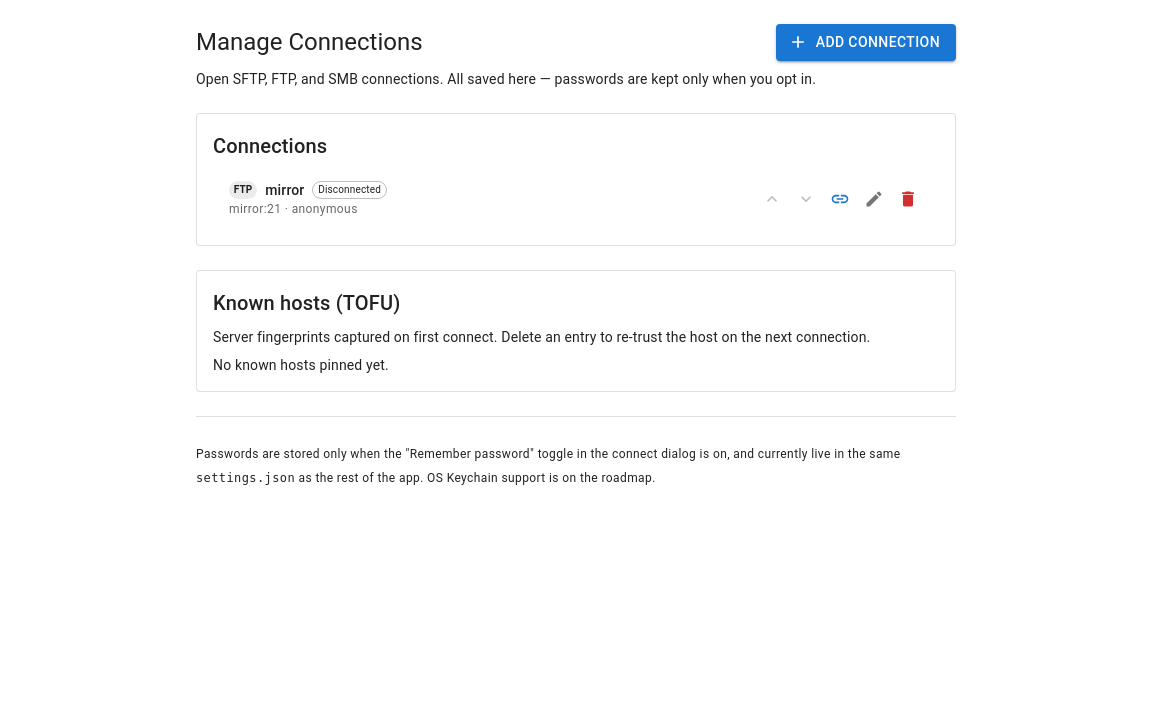
Test: ConnectionsPage (merged list) › Delete button opens a confirmation dialog and removes the entry on confirm
The width and height of the screenshot is (1152, 720).
Click the button named "Delete mirror". click: (908, 200)
box: [893,184,923,214]
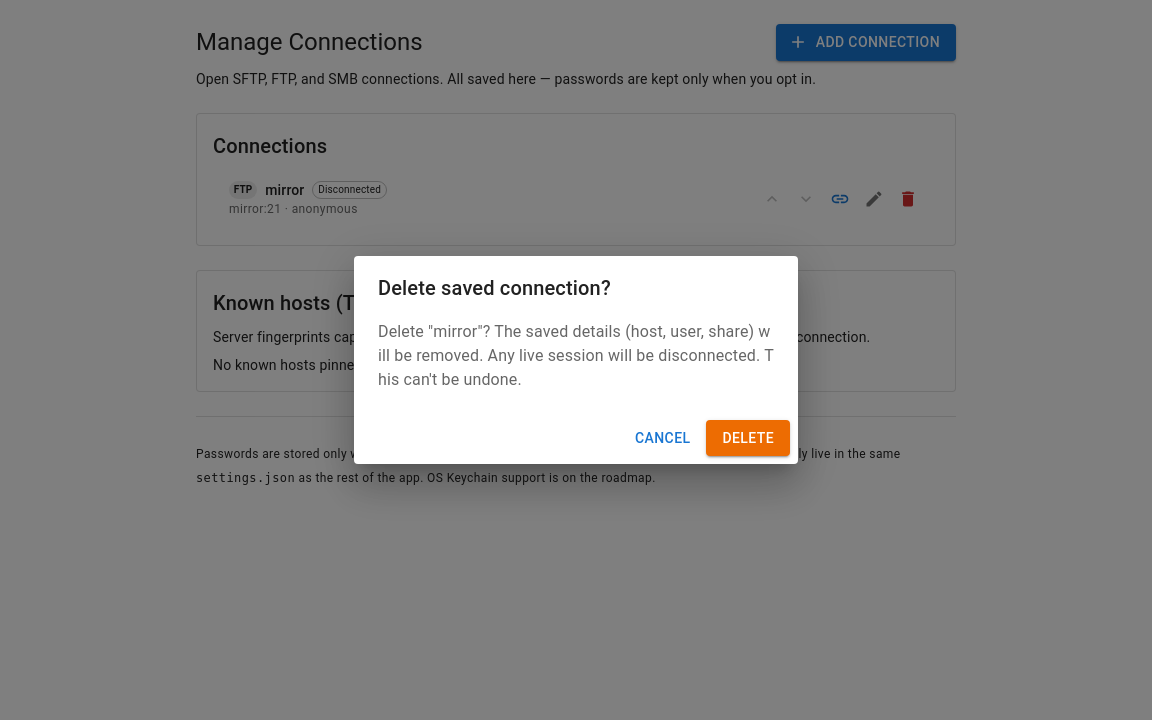
expect the text "Delete \"mirror\"?" is shown: met, box [378,322,774,389]
Click the button "Delete". click: (748, 438)
box: [706,420,790,456]
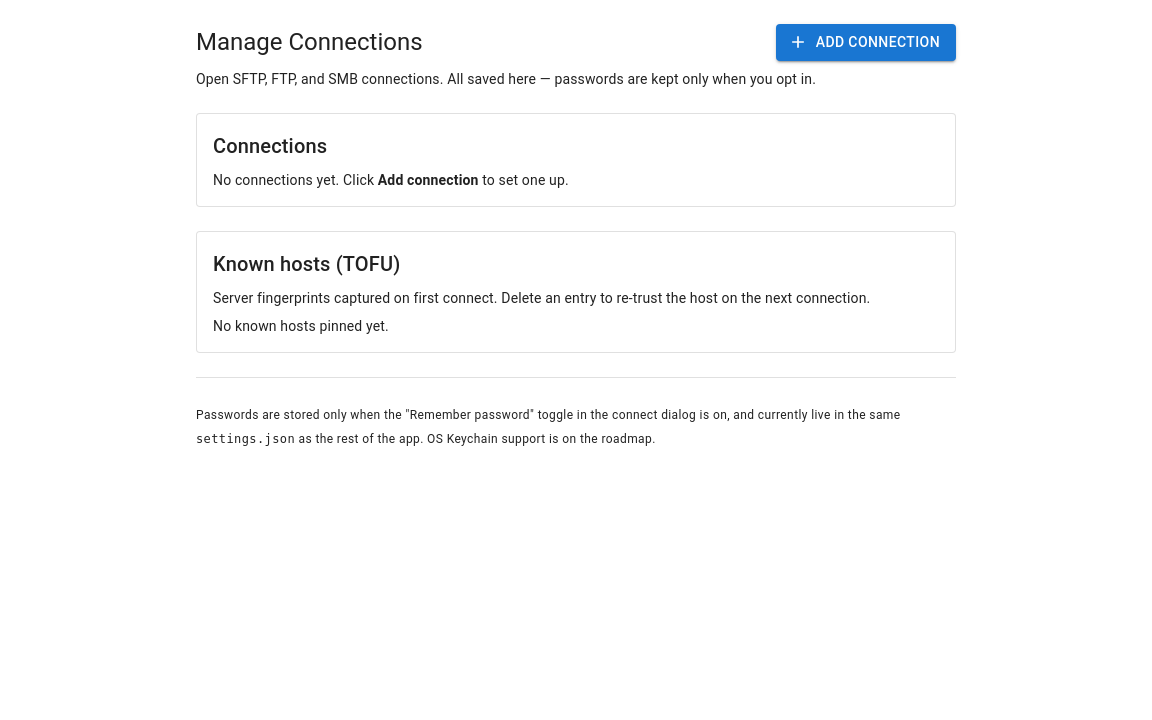
expect the text "mirror" is gone: met
